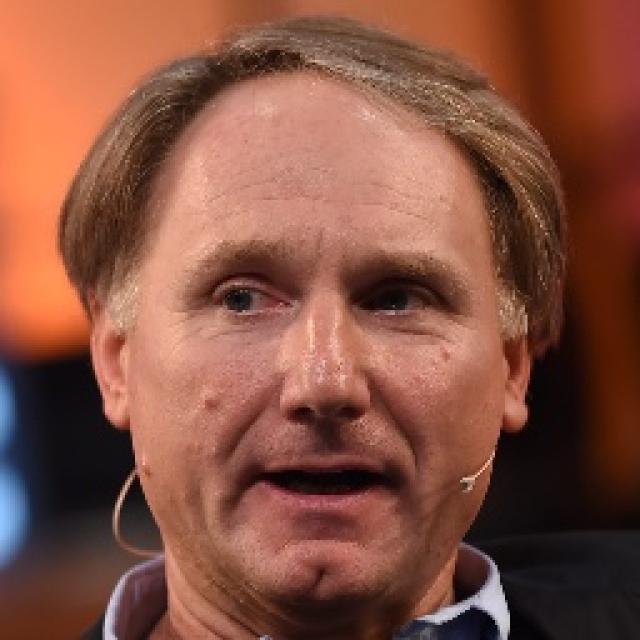earlobe: (500, 374, 529, 435), (100, 382, 134, 430)
eye: (216, 282, 290, 314), (357, 286, 432, 316)
nose: (277, 401, 373, 454)
wholeear: (85, 282, 134, 429), (500, 306, 530, 434)
